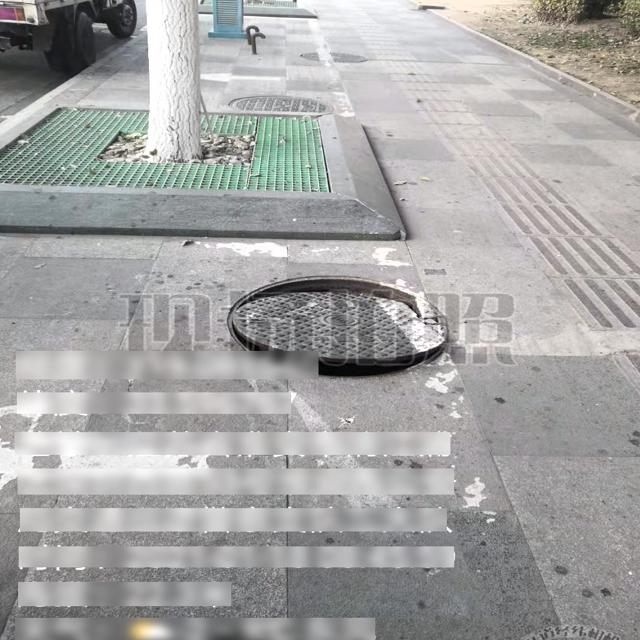uncovered: (226, 274, 449, 378)
